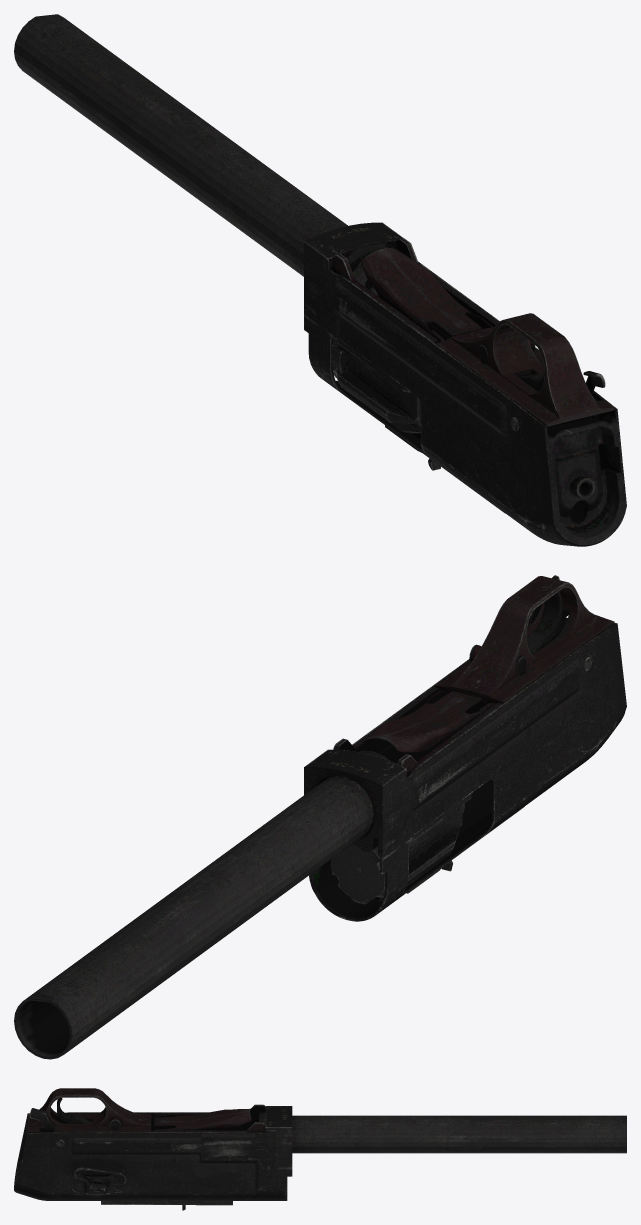
The picture shows the model from 3 angles, top to bottom: view 1: azimuth 30°, elevation 25°; view 2: azimuth 150°, elevation 25°; view 3: azimuth 270°, elevation 25°; orthographic projection. The views are drawn at different scales.
Visible parts, largest first — view 1: TW_5e848cc2988a8701445df1e8_PZ_Import; view 2: TW_5e848cc2988a8701445df1e8_PZ_Import; view 3: TW_5e848cc2988a8701445df1e8_PZ_Import.
Part boxes in pixels (bbox=[...]): TW_5e848cc2988a8701445df1e8_PZ_Import: bbox=[14, 14, 626, 546]; TW_5e848cc2988a8701445df1e8_PZ_Import: bbox=[14, 575, 626, 1059]; TW_5e848cc2988a8701445df1e8_PZ_Import: bbox=[14, 1088, 626, 1210].
Bounding box in the file's own units: 0.0315 × 0.3069 × 0.0643.
1 material, 1 textured.
